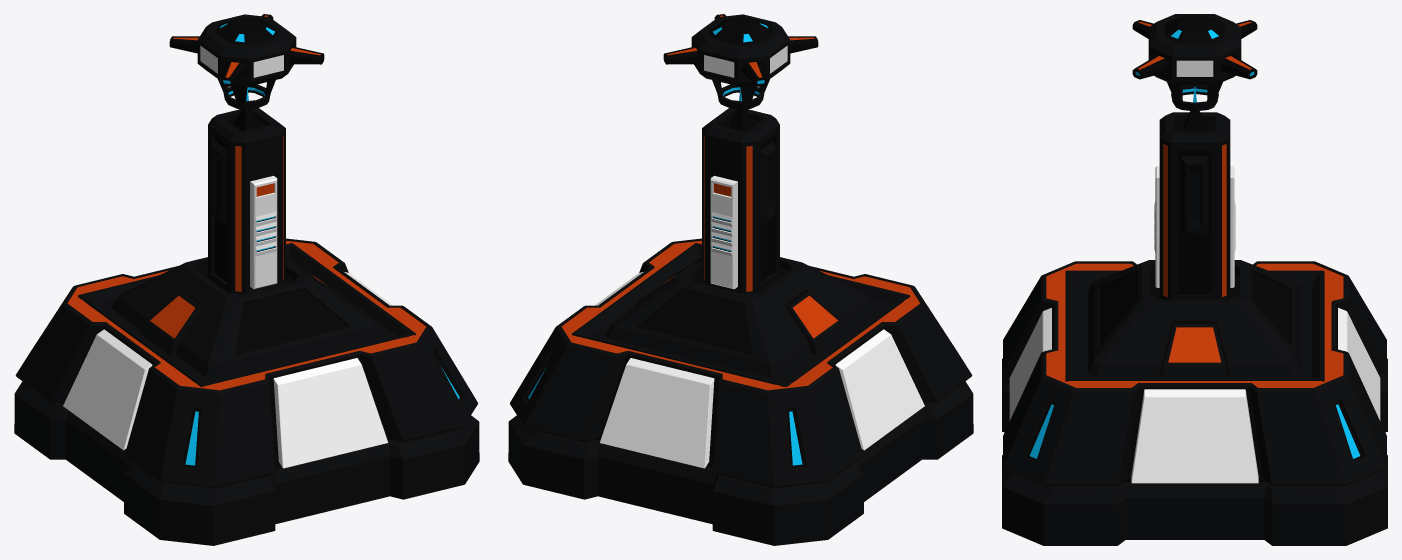
The model's file is SM_Turret_DroneHub.obj.
3 views of the same model, side by side, from view 1: azimuth 30°, elevation 25°; view 2: azimuth 150°, elevation 25°; view 3: azimuth 270°, elevation 25° (orthographic). The views are drawn at different scales.
Visible parts, largest first — view 1: SM_Turret_DroneHub_Base, SM_Turret_DroneHub_Drone; view 2: SM_Turret_DroneHub_Base, SM_Turret_DroneHub_Drone; view 3: SM_Turret_DroneHub_Base, SM_Turret_DroneHub_Drone.
Part boxes in pixels (<box>): SM_Turret_DroneHub_Base: <box>14,88,479,545</box>; SM_Turret_DroneHub_Drone: <box>169,14,324,109</box>; SM_Turret_DroneHub_Base: <box>508,88,973,545</box>; SM_Turret_DroneHub_Drone: <box>663,14,818,109</box>; SM_Turret_DroneHub_Base: <box>1002,87,1387,545</box>; SM_Turret_DroneHub_Drone: <box>1132,14,1257,111</box>.
Size of the model in its own units: 1 by 1.27 by 1.
